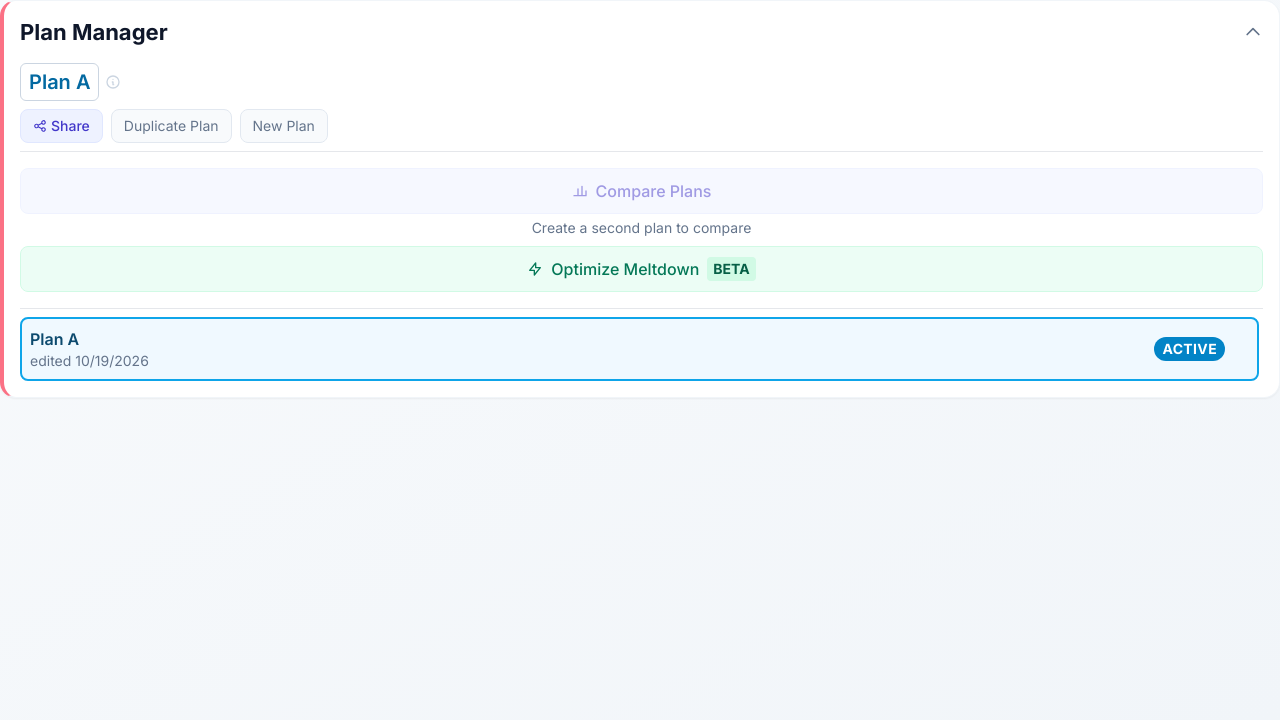
Scenario: PlanManager › Share opens a dialog showing the copyable link
The width and height of the screenshot is (1280, 720).
What coordinates should you click on to do the following:
click the button "Share"
I would click on:
 (61, 126)
Its box is [20,109,103,143].
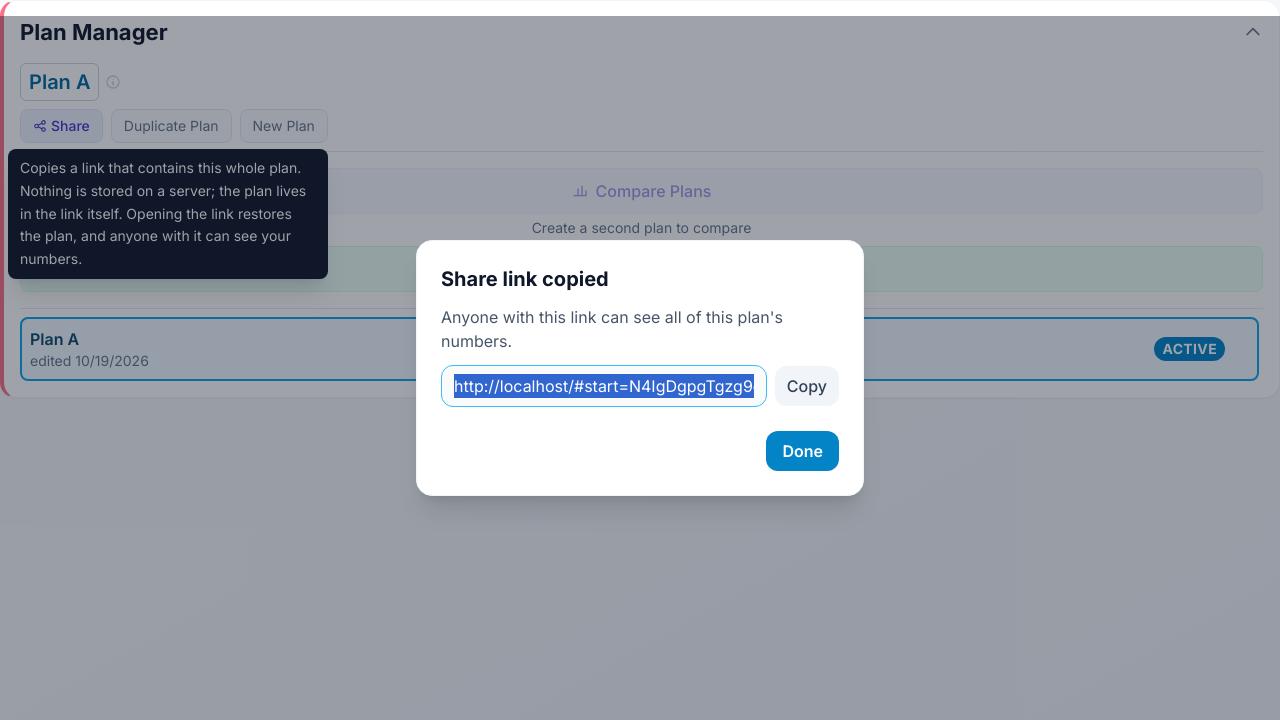
Expected: the dialog shows "Share link copied", [441,267,609,291]
